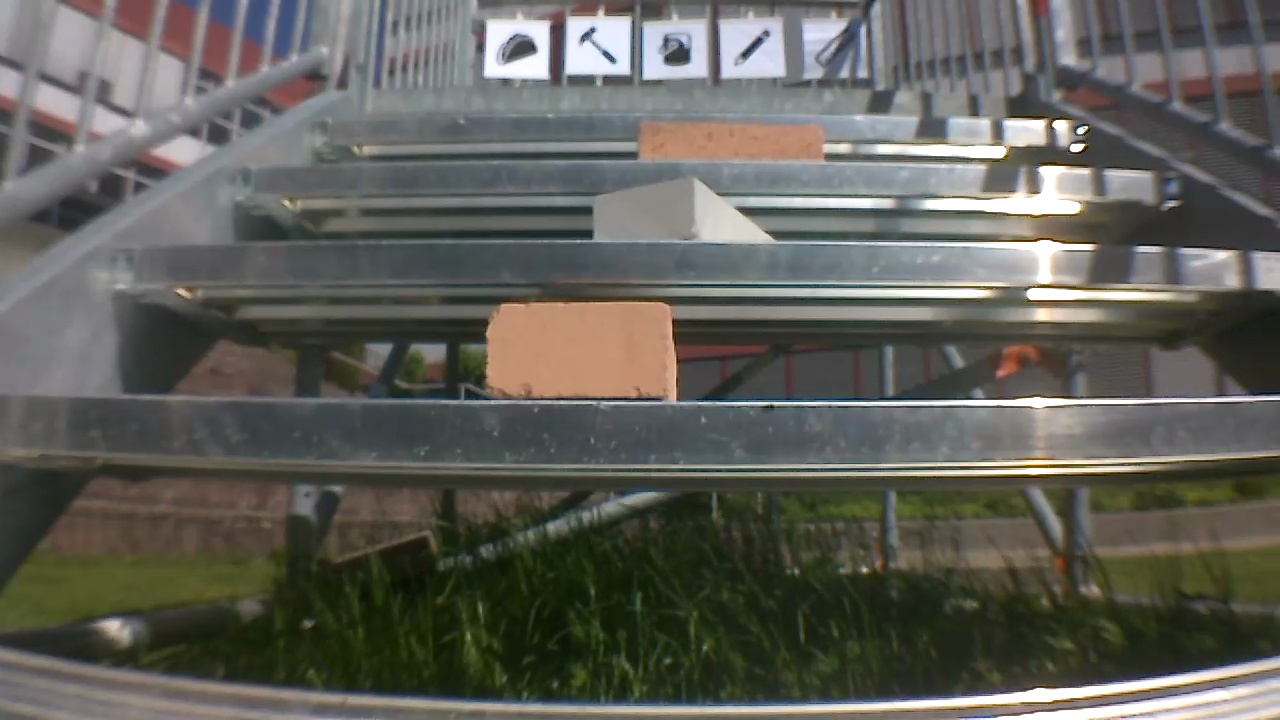brick: (482, 299, 677, 403), (583, 174, 788, 246), (634, 121, 823, 158)
edge: (4, 401, 1280, 456), (106, 243, 1280, 290), (231, 167, 1185, 199), (297, 116, 1094, 150), (365, 83, 1061, 104)
